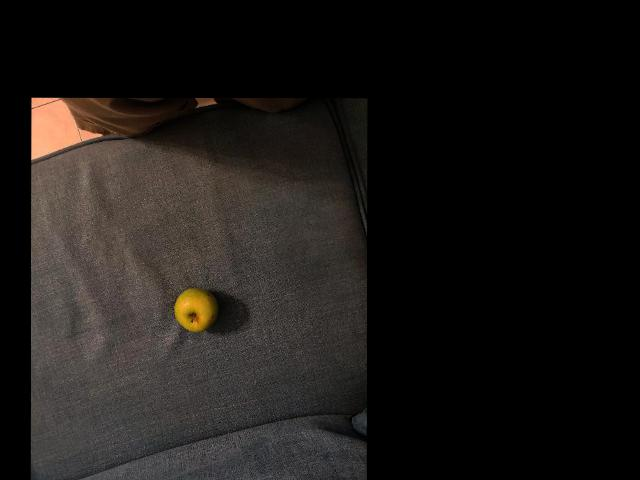apple: (160, 274, 214, 332)
